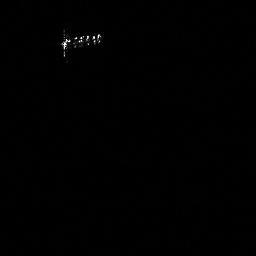ship: (63, 34, 101, 46)
